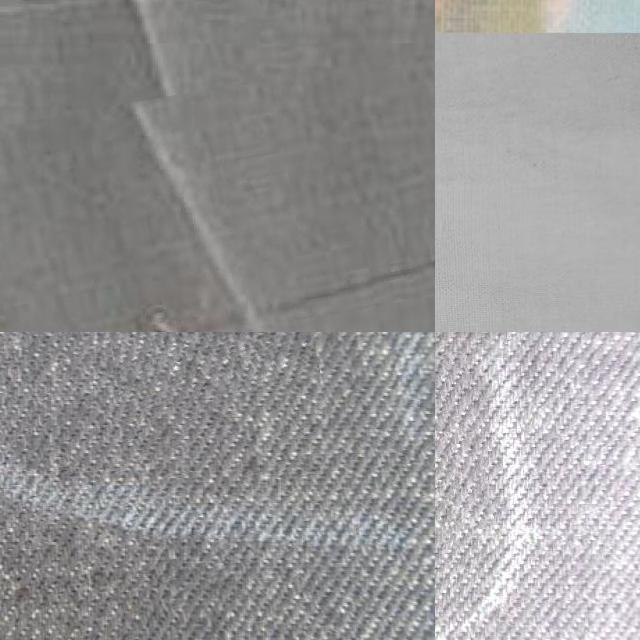stains: (0, 48, 435, 332), (84, 332, 309, 405), (435, 358, 487, 546)
